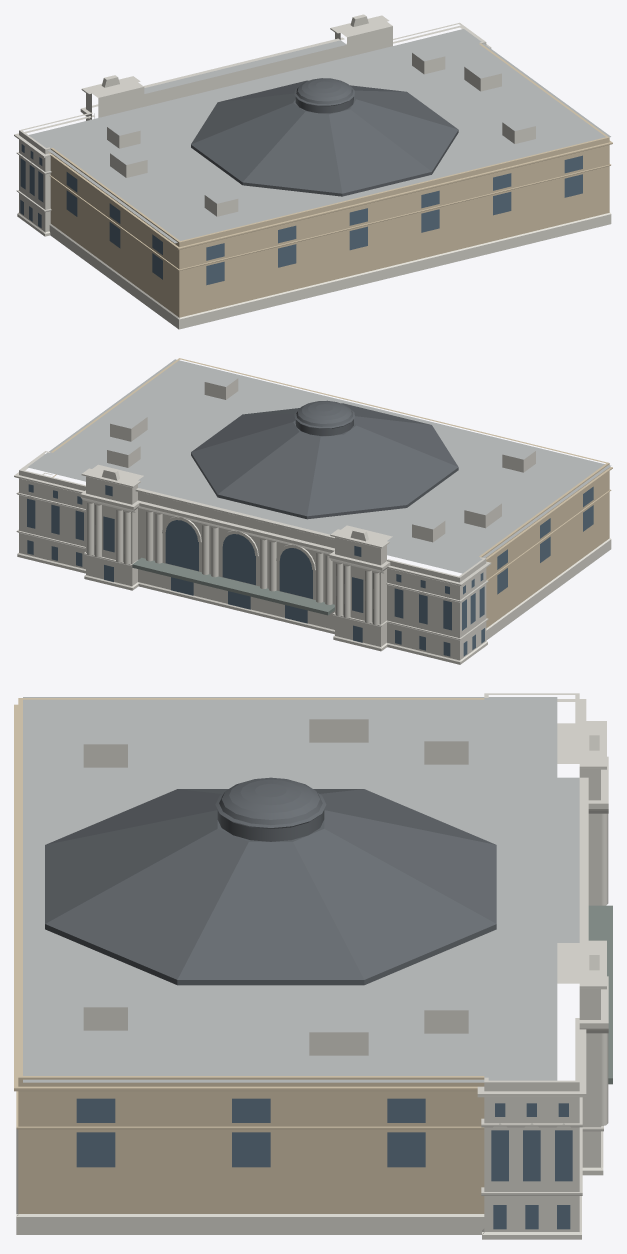
Rendered from sf-bill-graham-auditorium.glb.
3 views of the same model, one above another, from view 1: azimuth 30°, elevation 25°; view 2: azimuth 150°, elevation 25°; view 3: azimuth 270°, elevation 25° (orthographic). The views are drawn at different scales.
Parts seen in each view (by area): view 1: Bill Graham Civic Auditorium; view 2: Bill Graham Civic Auditorium; view 3: Bill Graham Civic Auditorium.
Boxes of the visible parts, <box> form: Bill Graham Civic Auditorium: <box>14,14,612,329</box>; Bill Graham Civic Auditorium: <box>14,358,612,664</box>; Bill Graham Civic Auditorium: <box>14,693,612,1239</box>.
Size of the model in its own units: 126 by 37.9 by 80.9.
